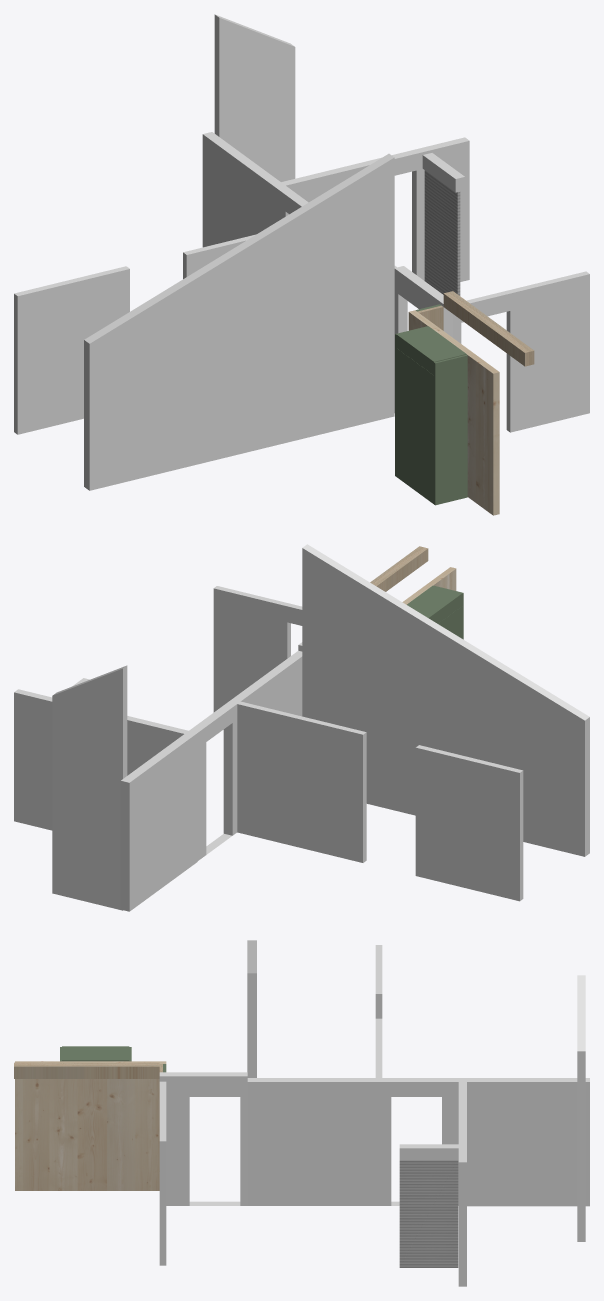
File: OG_Innenwände.gltf
The picture shows the model from 3 angles, top to bottom: view 1: azimuth 30°, elevation 25°; view 2: azimuth 150°, elevation 25°; view 3: azimuth 270°, elevation 25°; orthographic projection. The views are drawn at different scales.
Parts seen in each view (by area): view 1: Curve.071, Curve.072, _Wand-Türen.004, _.008, _Curve.014, _Wand-Türen.006, Curve.074, Curve.076, Curve.078, _.009, _Wand-Türen.005, Curve.080 (+4 smaller); view 2: Curve.071, Curve.072, _.008, _Curve.014, _Wand-Türen.006, _Wand-Türen.004, _Wand-Türen.007, Curve.077, Curve.080, Curve.074; view 3: _Wand-Türen.007, Curve.074, _Curve.014, _.009, _Wand-Türen.005, Curve.080, _.008, _Wand-Türen.006, _Wand-Türen.004, Curve.071, Curve.077, Curve.072 (+1 smaller).
Boxes of the visible parts, x1=… form: Curve.071: x1=84, y1=153, x2=394, y2=490; Curve.072: x1=14, y1=234, x2=256, y2=434; _Wand-Türen.004: x1=453, y1=271, x2=589, y2=432; _.008: x1=214, y1=14, x2=295, y2=181; _Curve.014: x1=202, y1=132, x2=280, y2=247; _Wand-Türen.006: x1=271, y1=137, x2=469, y2=281; Curve.074: x1=408, y1=310, x2=499, y2=515; Curve.076: x1=434, y1=354, x2=467, y2=505; Curve.078: x1=396, y1=348, x2=433, y2=482; _.009: x1=424, y1=170, x2=460, y2=295; _Wand-Türen.005: x1=394, y1=266, x2=452, y2=412; Curve.080: x1=443, y1=291, x2=534, y2=366; Curve.071: x1=302, y1=544, x2=589, y2=856; Curve.072: x1=237, y1=701, x2=523, y2=901; _.008: x1=52, y1=665, x2=127, y2=910; _Curve.014: x1=120, y1=734, x2=193, y2=911; _Wand-Türen.006: x1=14, y1=689, x2=197, y2=864; _Wand-Türen.004: x1=213, y1=586, x2=302, y2=712; _Wand-Türen.007: x1=189, y1=651, x2=302, y2=860; Curve.077: x1=407, y1=585, x2=462, y2=623; Curve.080: x1=370, y1=546, x2=428, y2=591; Curve.074: x1=402, y1=567, x2=456, y2=604; _Wand-Türen.007: x1=247, y1=1078, x2=458, y2=1205; Curve.074: x1=15, y1=1061, x2=166, y2=1190; _Curve.014: x1=467, y1=1078, x2=589, y2=1206; _.009: x1=399, y1=1160, x2=458, y2=1267; _Wand-Türen.005: x1=159, y1=1072, x2=247, y2=1205; Curve.080: x1=14, y1=1062, x2=159, y2=1078; _.008: x1=577, y1=975, x2=585, y2=1241; _Wand-Türen.006: x1=458, y1=1078, x2=466, y2=1286; _Wand-Türen.004: x1=159, y1=1081, x2=166, y2=1265; Curve.071: x1=247, y1=940, x2=256, y2=1077; Curve.077: x1=62, y1=1046, x2=129, y2=1061; Curve.072: x1=375, y1=945, x2=382, y2=1078.
Bounding box in the file's own units: 9.19 × 4.6 × 10.29.
9 materials, 3 textured.
